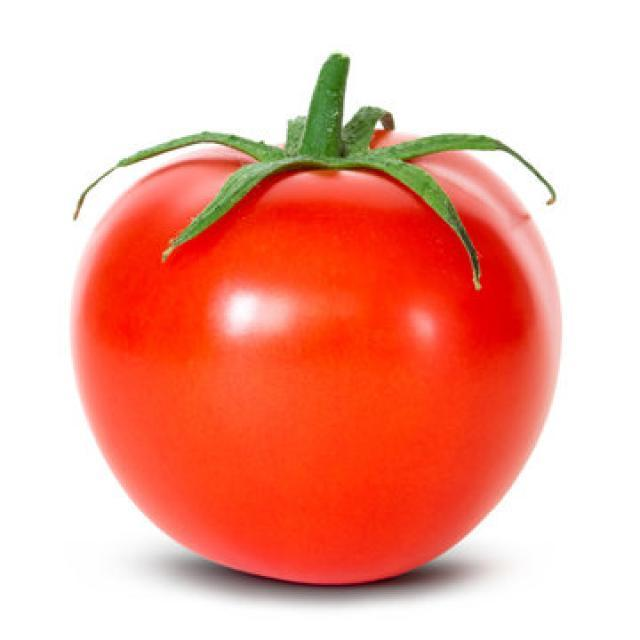kirmizi: (48, 120, 556, 614)
